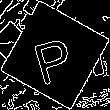P_N: (30, 26, 80, 84)
